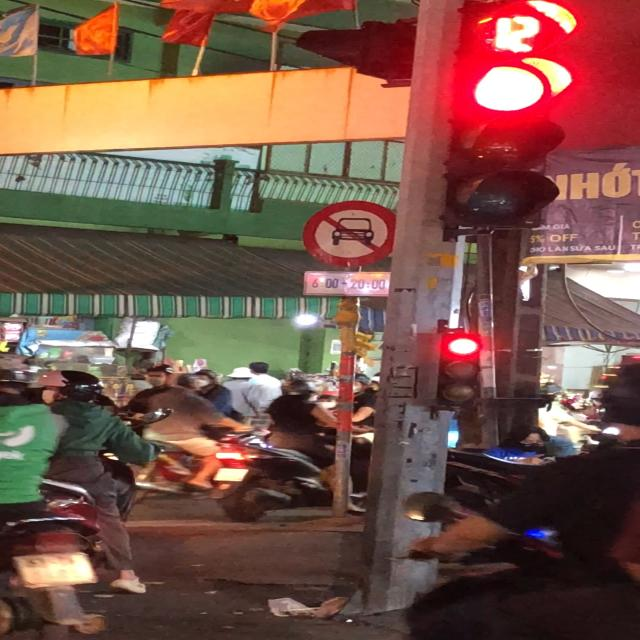Bien bao cam xe oto: (300, 200, 400, 270)
